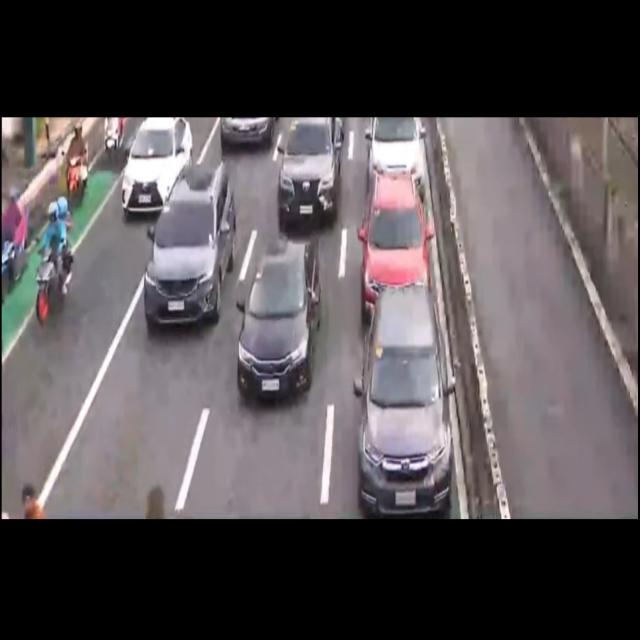Motorcycle: (35, 191, 73, 336), (1, 178, 30, 299)
SUV: (358, 288, 457, 512), (147, 164, 234, 330), (362, 167, 433, 317), (274, 123, 345, 225), (362, 118, 426, 203)
Sedan: (235, 239, 320, 400), (120, 122, 190, 210)
